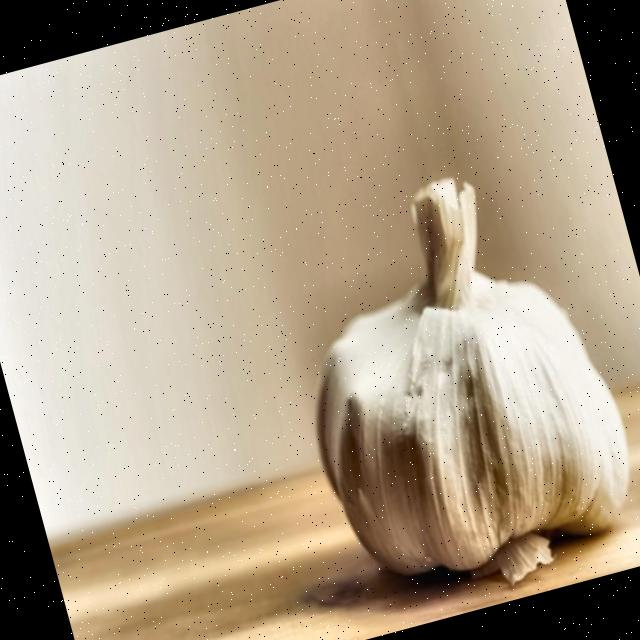garlic: (317, 178, 628, 582)
